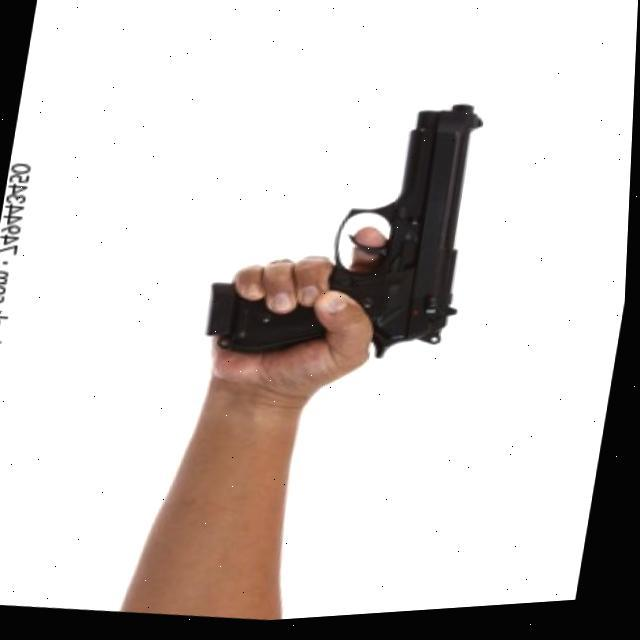gun: (206, 78, 492, 380)
